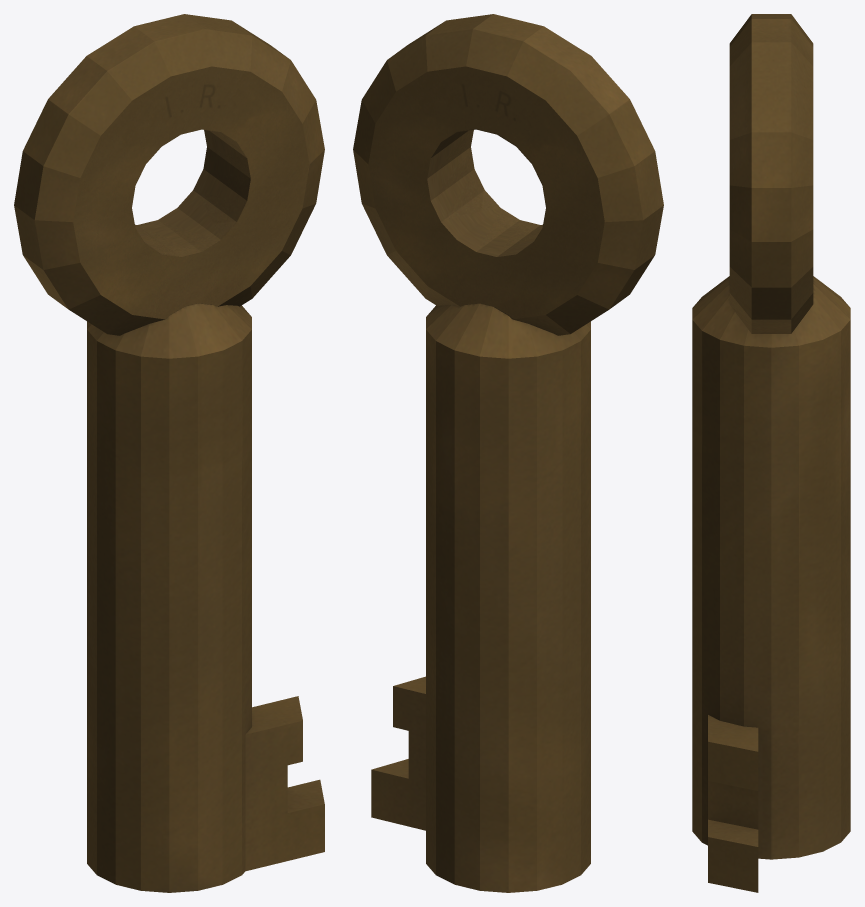
The model's file is switch_key.obj.
3 views of the same model, side by side, from view 1: azimuth 30°, elevation 25°; view 2: azimuth 150°, elevation 25°; view 3: azimuth 270°, elevation 25° (orthographic). The views are drawn at different scales.
Visible parts, largest first — view 1: Cube_Cube.001; view 2: Cube_Cube.001; view 3: Cube_Cube.001.
Boxes of the visible parts, x1,y1,x2,y2 form: Cube_Cube.001: (14,14,324,892); Cube_Cube.001: (353,14,663,892); Cube_Cube.001: (692,14,850,892).
Bounding box in the file's own units: 0.8 × 2.19 × 0.3939.
Materials: 1 (1 with a texture image).
